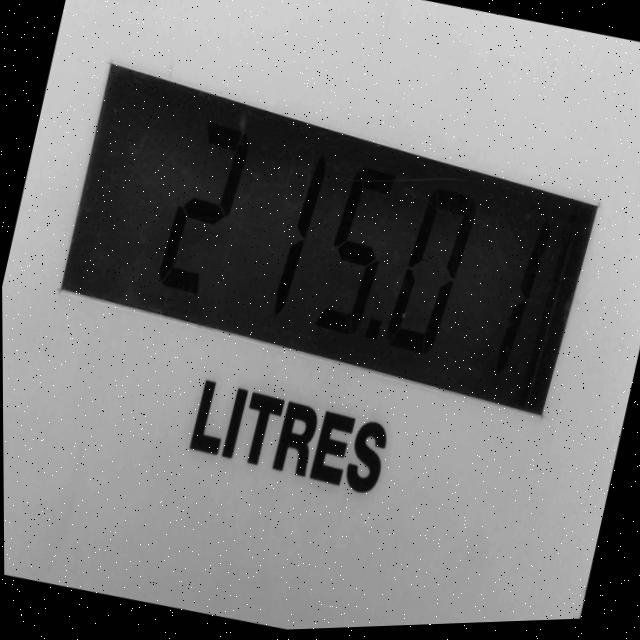.: (353, 311, 390, 365)
0: (368, 157, 498, 381)
1: (450, 186, 571, 396), (233, 137, 341, 346)
2: (140, 96, 263, 327)
5: (294, 146, 414, 371)
